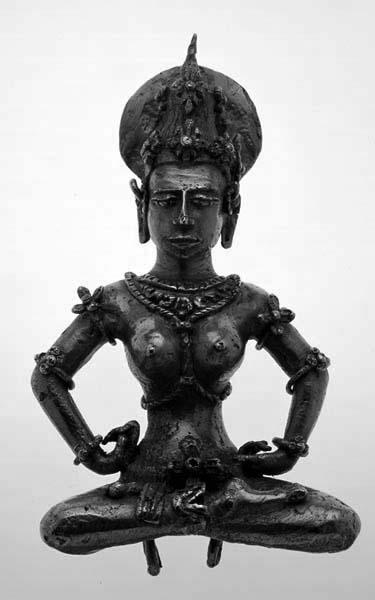golden_tara_of_agusan: (28, 28, 363, 575)
